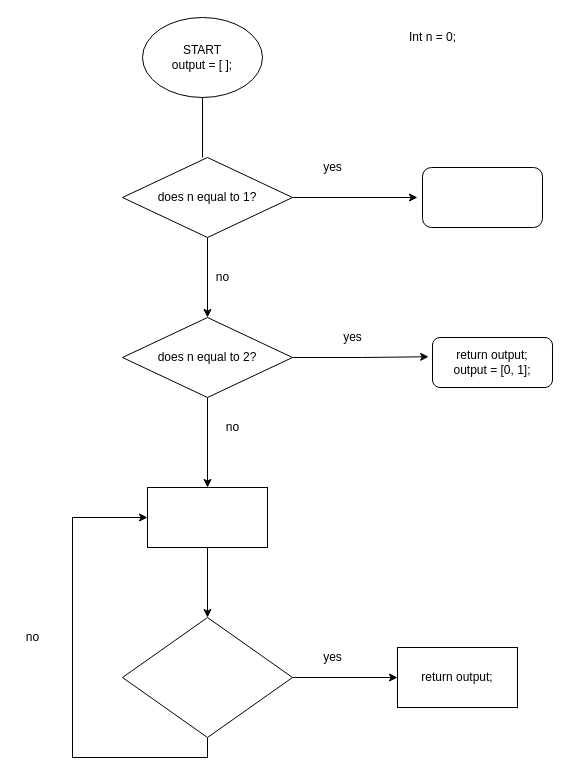
The diagram is 570 pixels wide and 783 high, and some of its shapes have lost their labels. The shapes that lost their labels are listed below. From the top down, each one's centre as x and y in pixels, then its label:
At point (482, 197): "return output; output = [ 0 ];".
At point (207, 517): "sum 2 of the last values".
At point (207, 677): "does n equal number of items in the array?".
